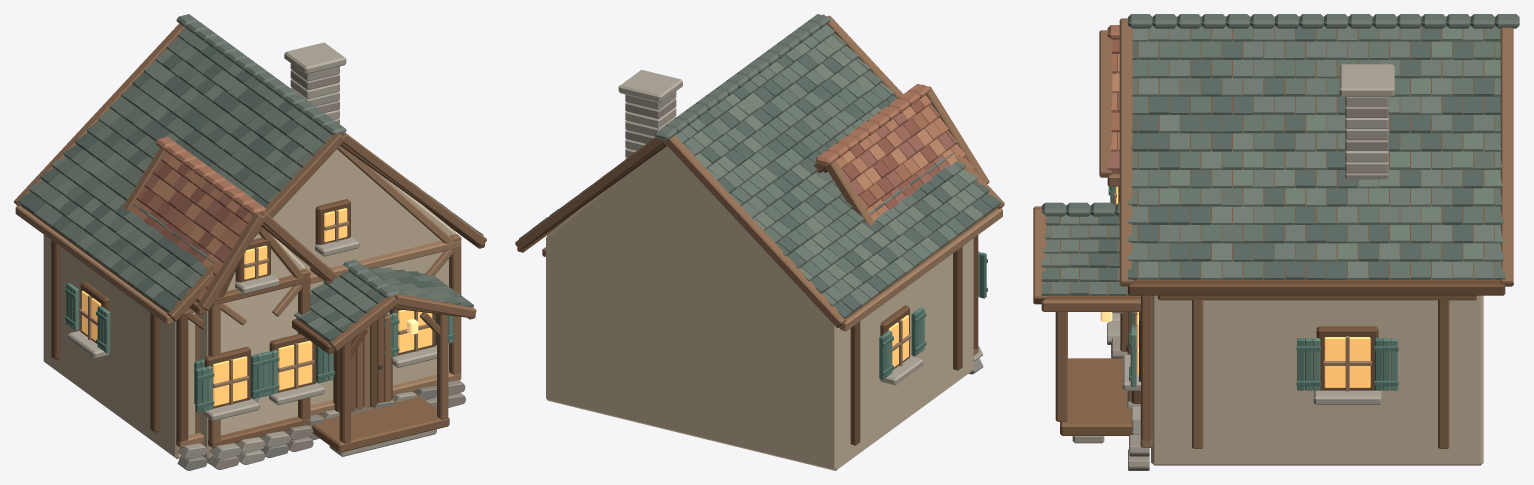
File: gable.glb
3 views of the same model, side by side, from view 1: azimuth 30°, elevation 25°; view 2: azimuth 150°, elevation 25°; view 3: azimuth 270°, elevation 25° (orthographic). The views are drawn at different scales.
Visible parts, largest first — view 1: gable Warm limewash 02, gable Slate green shingles 03, gable Slate green shingles 01, gable Oiled oak 01, gable Oak end grain 01, gable Slate green shingles 02, gable Oiled oak 02, gable Slate green shingles 04, gable Oiled oak 04, gable Warm limewash 01, gable Warm slate 03, gable Oiled oak 03 (+13 smaller); view 2: gable Warm limewash 02, gable Slate green shingles 03, gable Slate green shingles 01, gable Slate green shingles 02, gable Slate green shingles 04, gable Oak end grain 01, gable Oiled oak 01, gable Fired clay 03, gable Warm slate 03, gable Fired clay 01, gable Oiled oak 04, gable Fired clay 04 (+6 smaller); view 3: gable Warm limewash 02, gable Slate green shingles 03, gable Slate green shingles 01, gable Slate green shingles 02, gable Slate green shingles 04, gable Oiled oak 01, gable Oak end grain 01, gable Oiled oak 02, gable Oiled oak 03, gable Warm slate 03, gable Honey glass 01, gable Warm slate 01 (+5 smaller).
Part boxes in pixels (x1=…): gable Warm limewash 02: x1=43, y1=149, x2=455, y2=458; gable Slate green shingles 03: x1=28, y1=14, x2=472, y2=336; gable Slate green shingles 01: x1=17, y1=45, x2=483, y2=341; gable Oiled oak 01: x1=21, y1=143, x2=484, y2=442; gable Oak end grain 01: x1=14, y1=23, x2=486, y2=351; gable Slate green shingles 02: x1=56, y1=51, x2=473, y2=313; gable Oiled oak 02: x1=188, y1=268, x2=449, y2=452; gable Slate green shingles 04: x1=50, y1=45, x2=477, y2=330; gable Oiled oak 04: x1=15, y1=146, x2=461, y2=448; gable Warm limewash 01: x1=200, y1=233, x2=305, y2=458; gable Warm slate 03: x1=68, y1=42, x2=436, y2=456; gable Oiled oak 03: x1=173, y1=228, x2=475, y2=441; gable Warm limewash 02: x1=546, y1=146, x2=973, y2=470; gable Slate green shingles 03: x1=524, y1=14, x2=985, y2=306; gable Slate green shingles 01: x1=550, y1=54, x2=1001, y2=318; gable Slate green shingles 02: x1=519, y1=33, x2=968, y2=286; gable Slate green shingles 04: x1=532, y1=35, x2=983, y2=290; gable Oak end grain 01: x1=515, y1=14, x2=1004, y2=327; gable Oiled oak 01: x1=517, y1=143, x2=997, y2=445; gable Fired clay 03: x1=816, y1=84, x2=965, y2=220; gable Warm slate 03: x1=618, y1=69, x2=923, y2=385; gable Fired clay 01: x1=843, y1=100, x2=939, y2=209; gable Oiled oak 04: x1=840, y1=208, x2=1002, y2=355; gable Fired clay 04: x1=842, y1=104, x2=957, y2=202; gable Warm limewash 02: x1=1151, y1=295, x2=1483, y2=465; gable Slate green shingles 03: x1=1041, y1=14, x2=1519, y2=295; gable Slate green shingles 01: x1=1089, y1=25, x2=1501, y2=281; gable Slate green shingles 02: x1=1041, y1=26, x2=1505, y2=295; gable Slate green shingles 04: x1=1041, y1=25, x2=1505, y2=281; gable Oiled oak 01: x1=1046, y1=26, x2=1505, y2=403; gable Oak end grain 01: x1=1033, y1=18, x2=1513, y2=304; gable Oiled oak 02: x1=1060, y1=295, x2=1476, y2=448; gable Oiled oak 03: x1=1041, y1=174, x2=1203, y2=448; gable Warm slate 03: x1=1072, y1=64, x2=1394, y2=443; gable Honey glass 01: x1=1116, y1=186, x2=1370, y2=387; gable Warm slate 01: x1=1111, y1=106, x2=1388, y2=470.
Size of the model in its own units: 6.36 by 5.85 by 6.76.
